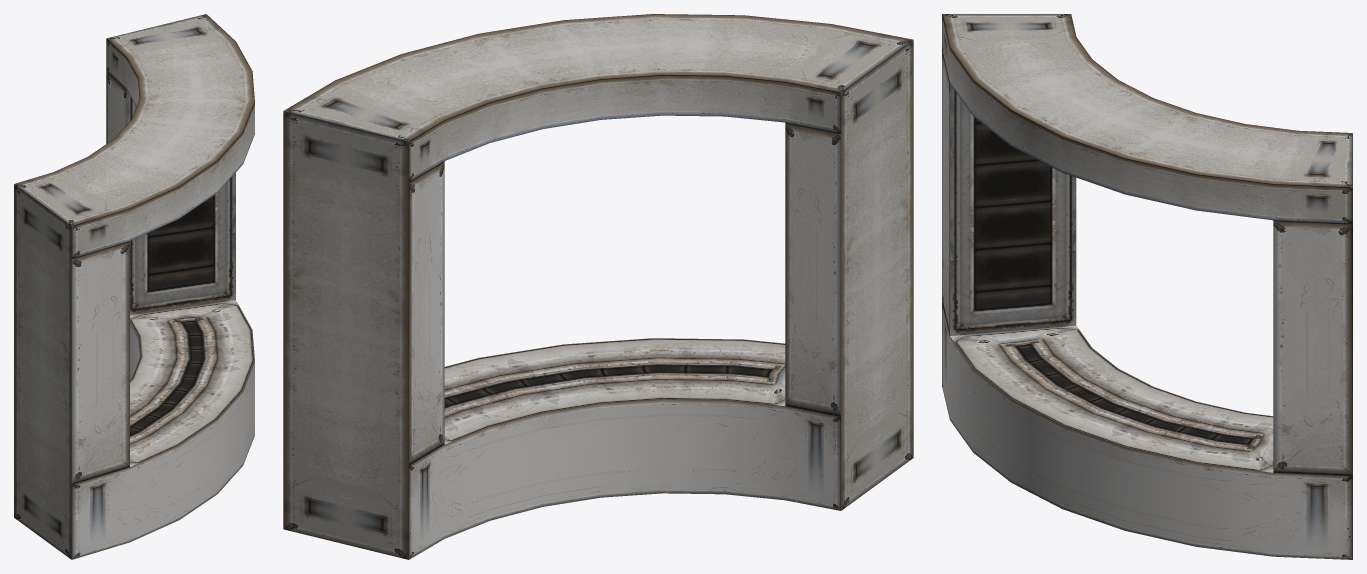
Rendered from scifi_window_curve.FBX.
3 views of the same model, side by side, from view 1: azimuth 30°, elevation 25°; view 2: azimuth 150°, elevation 25°; view 3: azimuth 270°, elevation 25° (orthographic). The views are drawn at different scales.
Parts seen in each view (by area): view 1: Plane158; view 2: Plane158; view 3: Plane158.
Boxes of the visible parts, x1,y1,x2,y2 form: Plane158: (14, 14, 254, 559); Plane158: (283, 14, 913, 559); Plane158: (942, 14, 1352, 559).
Bounding box in the file's own units: 254 × 254 × 254.
